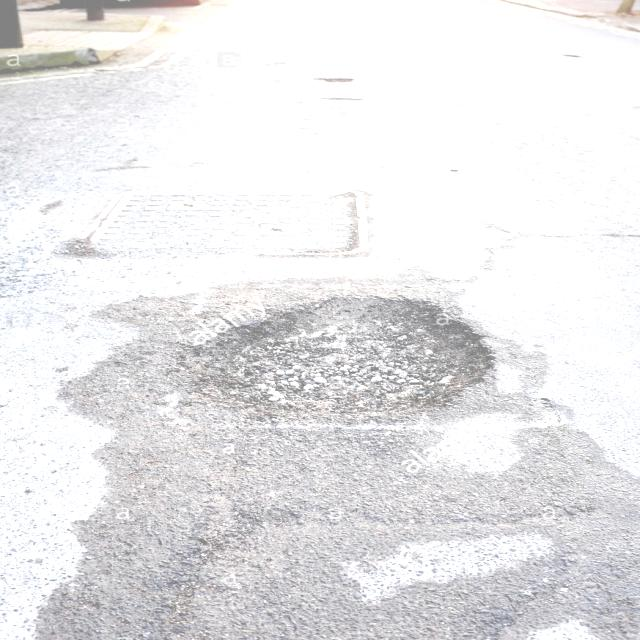Pothole: (185, 288, 509, 432)
